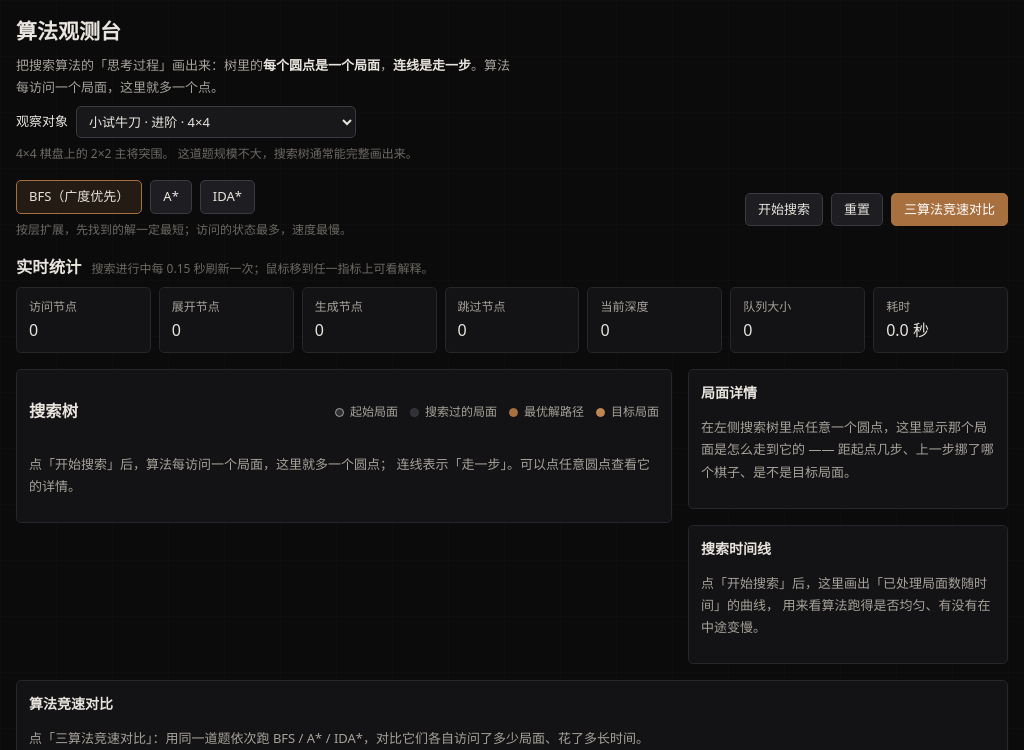
Test: 算法观测台 › 切换到经典谜题后，提示随之更新为「看不完整」
The image size is (1024, 750).
Select "横刀立马 · 专家 · 4×5 · 最优 116 步" in the dropdown labelled "观察对象" at (216, 122), box x1=76 y1=106 x2=356 y2=138
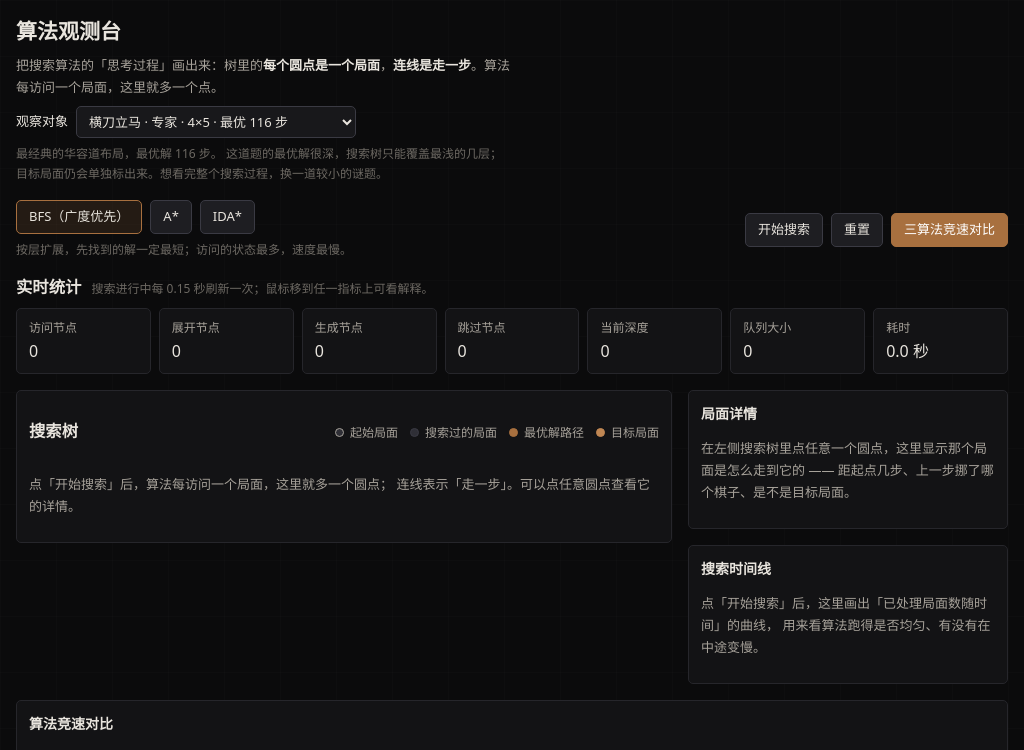
Now the text "116 步" is shown, box x1=16 y1=145 x2=223 y2=162
Now the text "换一道较小的谜题" is shown, box x1=16 y1=145 x2=502 y2=182
